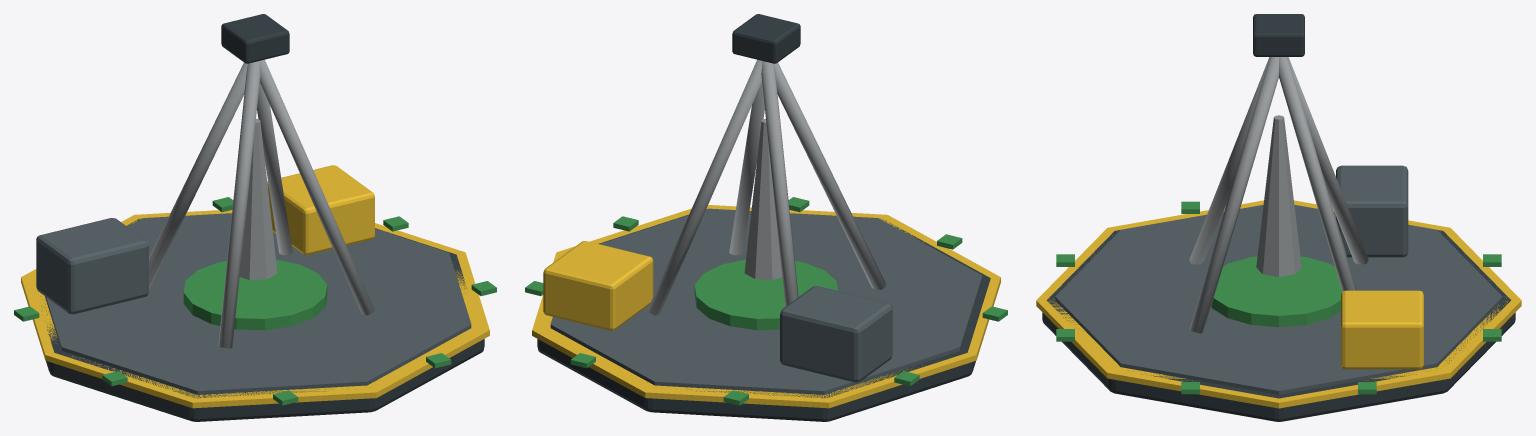
Rendered from driller_yard.fbx.
3 views of the same model, side by side, from view 1: azimuth 30°, elevation 25°; view 2: azimuth 150°, elevation 25°; view 3: azimuth 270°, elevation 25° (orthographic).
Parts seen in each view (by area): view 1: driller_yard, ANIM_spin_z_180__drill; view 2: driller_yard, ANIM_spin_z_180__drill; view 3: driller_yard, ANIM_spin_z_180__drill.
Part boxes in pixels (x1,y1,x2,y2): driller_yard: (14,14,496,421); ANIM_spin_z_180__drill: (239,118,277,279); driller_yard: (525,14,1007,421); ANIM_spin_z_180__drill: (744,118,782,279); driller_yard: (1036,14,1521,421); ANIM_spin_z_180__drill: (1256,115,1301,276).
Size of the model in its own units: 4.69 by 3.2 by 4.69.
